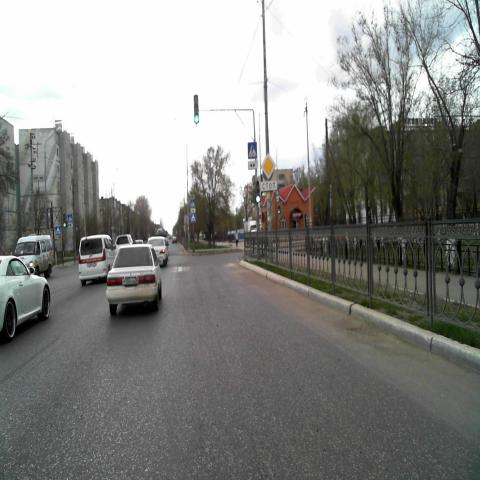6_16: (260, 181, 277, 191)
